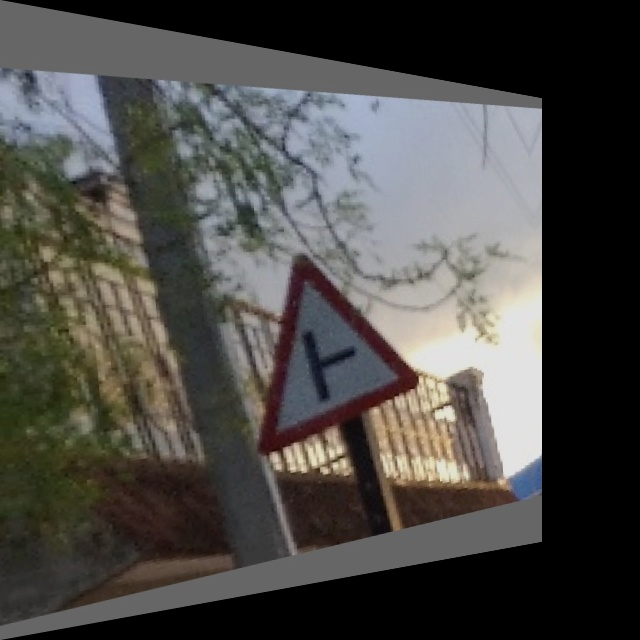Side_Road_Right: (228, 240, 411, 441)
